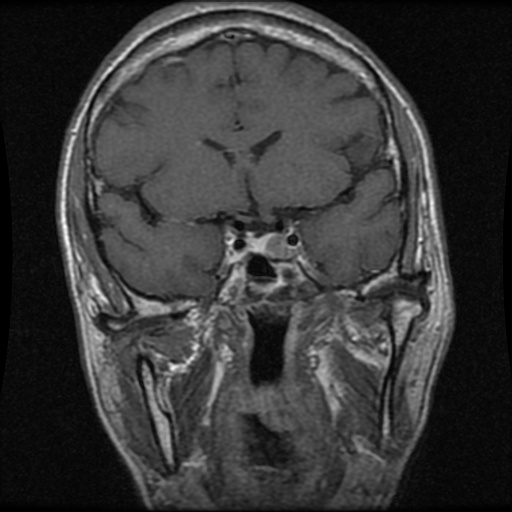pituitary: (249, 233, 286, 257)
